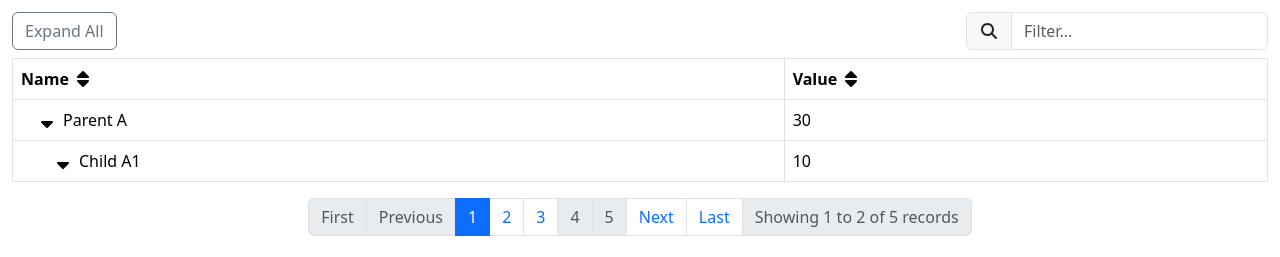
Scenario: BootstrapTreeTable (final production version) › changes page when paginator page button is clicked
Expected: the text "Parent A" is shown, [37,109,127,131]
Expected: the text "Child A1" is shown, [53,150,141,172]
# Click on page 2
Click the button "2" at (507, 217), box [489,198,524,236]
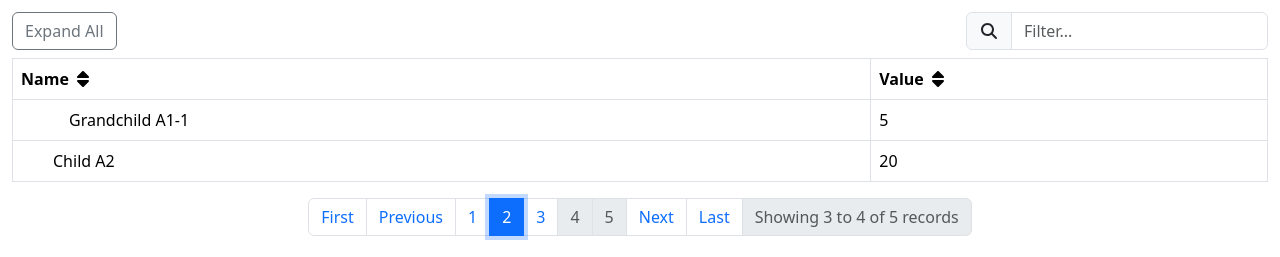
Expected: the text "Grandchild A1-1" is shown, [69,109,189,131]
Expected: the text "Child A2" is shown, [53,150,115,172]
Expected: the text "Parent A" is gone
